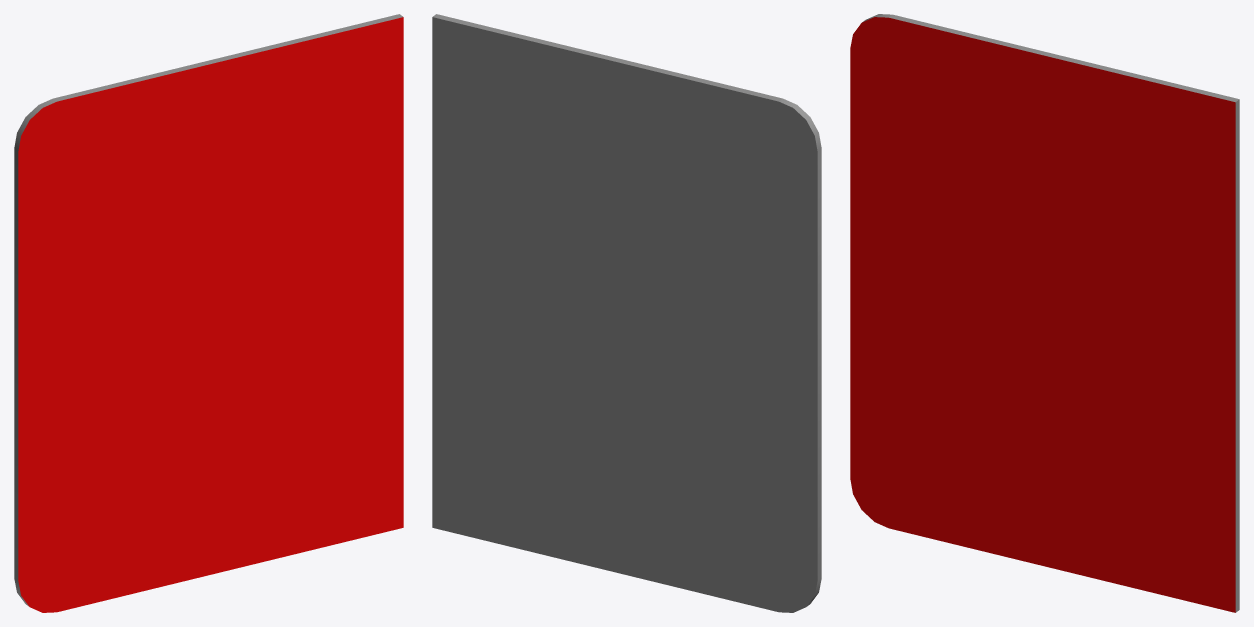
Rendered from Card Half_new.FBX.
3 views of the same model, side by side, from view 1: azimuth 30°, elevation 25°; view 2: azimuth 150°, elevation 25°; view 3: azimuth 330°, elevation 25° (orthographic).
Visible parts, largest first — view 1: CardHalf; view 2: CardHalf; view 3: CardHalf.
Part boxes in pixels (x1=…): CardHalf: x1=14, y1=14, x2=403, y2=612; CardHalf: x1=432, y1=14, x2=821, y2=612; CardHalf: x1=850, y1=14, x2=1239, y2=612.
Bounding box in the file's own units: 737 × 13.77 × 934.
